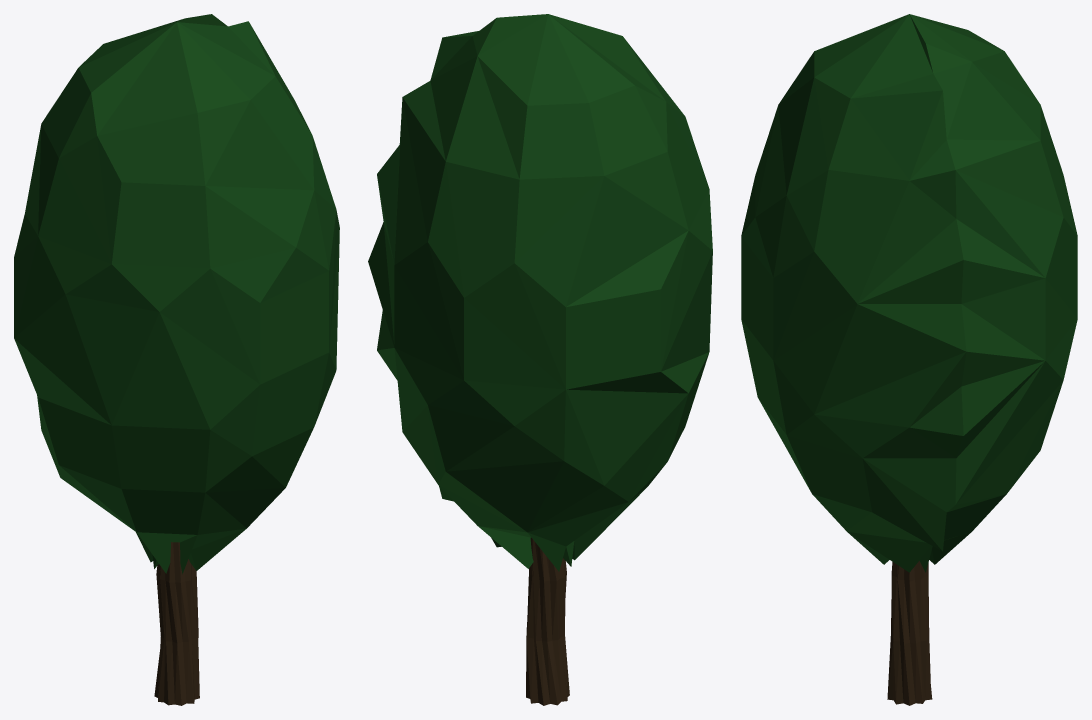
File: TallSkinnyTree_Green.fbx
3 views of the same model, side by side, from view 1: azimuth 30°, elevation 25°; view 2: azimuth 150°, elevation 25°; view 3: azimuth 270°, elevation 25° (orthographic).
Visible parts, largest first — view 1: Trees:pSphere2, Trees:pCylinder2; view 2: Trees:pSphere2, Trees:pCylinder2; view 3: Trees:pSphere2, Trees:pCylinder2.
Part boxes in pixels (left/top/right/bottom): Trees:pSphere2: left=14, top=14, right=339, bottom=574; Trees:pCylinder2: left=154, top=542, right=199, bottom=705; Trees:pSphere2: left=368, top=14, right=712, bottom=571; Trees:pCylinder2: left=526, top=537, right=569, bottom=705; Trees:pSphere2: left=741, top=14, right=1077, bottom=572; Trees:pCylinder2: left=887, top=561, right=932, bottom=705.
Size of the model in its own units: 0.1721 by 0.3842 by 0.1717.
